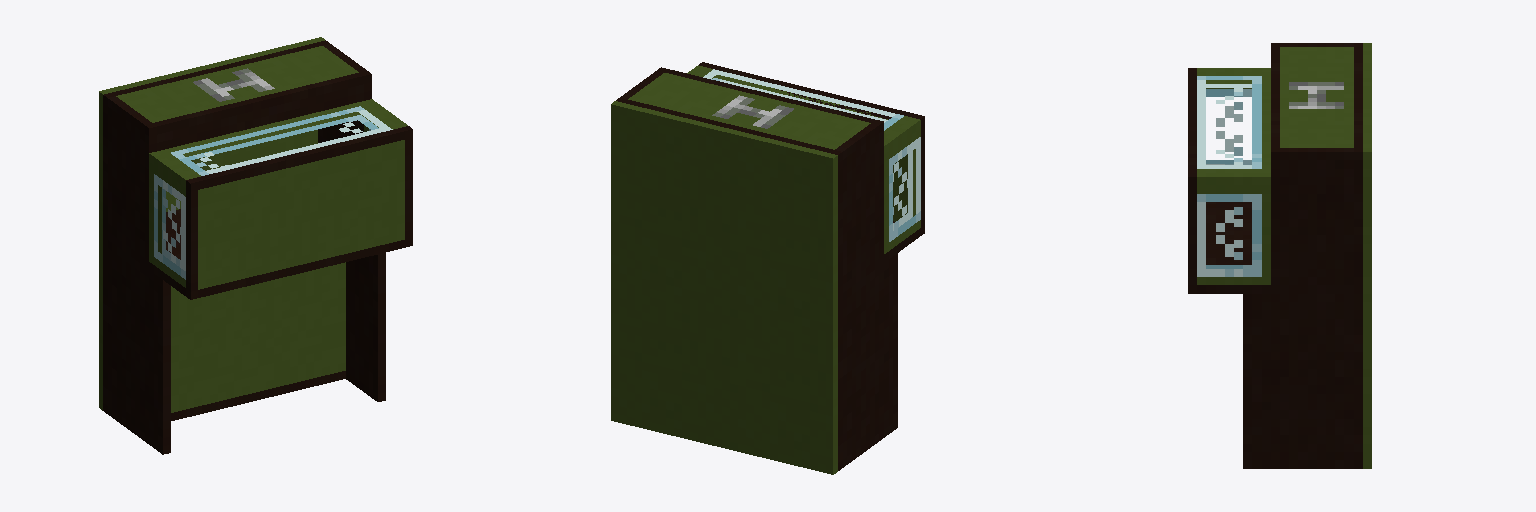
3 renders of one model, left to right at view 1: azimuth 30°, elevation 25°; view 2: azimuth 150°, elevation 25°; view 3: azimuth 270°, elevation 25°, orthographic.
Parts seen in each view (by area): view 1: Import.001; view 2: Import.001; view 3: Import.001.
Boxes of the visible parts, <box> form: Import.001: <box>99,37,412,454</box>; Import.001: <box>611,62,924,474</box>; Import.001: <box>1188,43,1371,468</box>.
Bounding box in the file's own units: 1.75 × 2.38 × 1.25.
Materials: 1 (1 with a texture image).